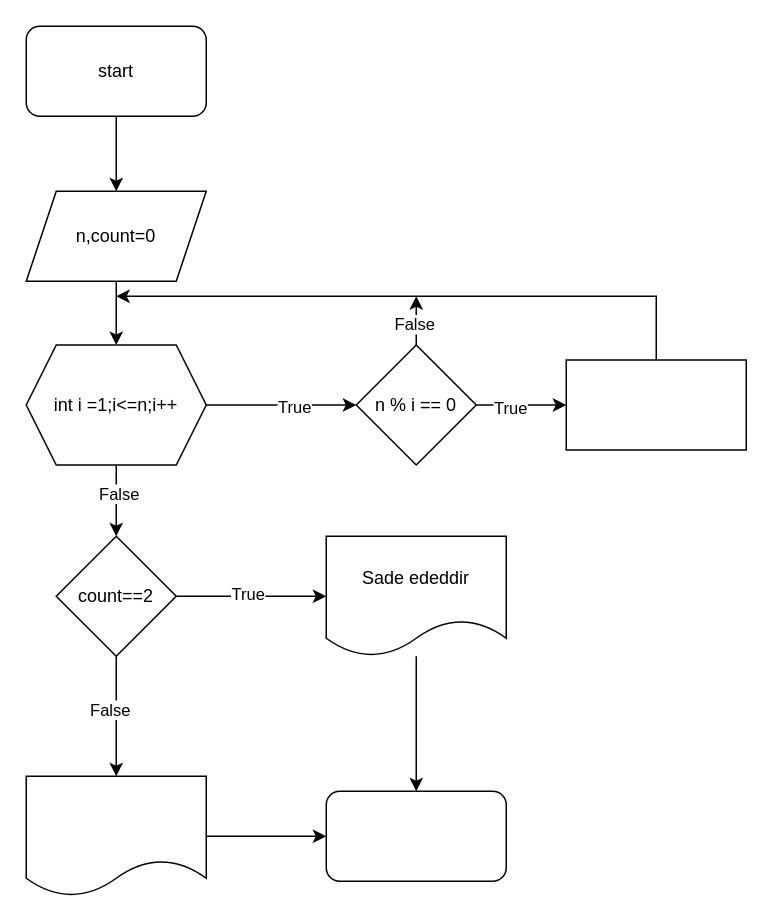
Some shapes in this 773 by 923 pixel diagram are drawn without their labels. Each missing label, with the centre of its shape:
"count++" goes at (x=655, y=404).
"end" goes at (x=415, y=835).
"Murekkeb ededdir" goes at (x=115, y=835).
